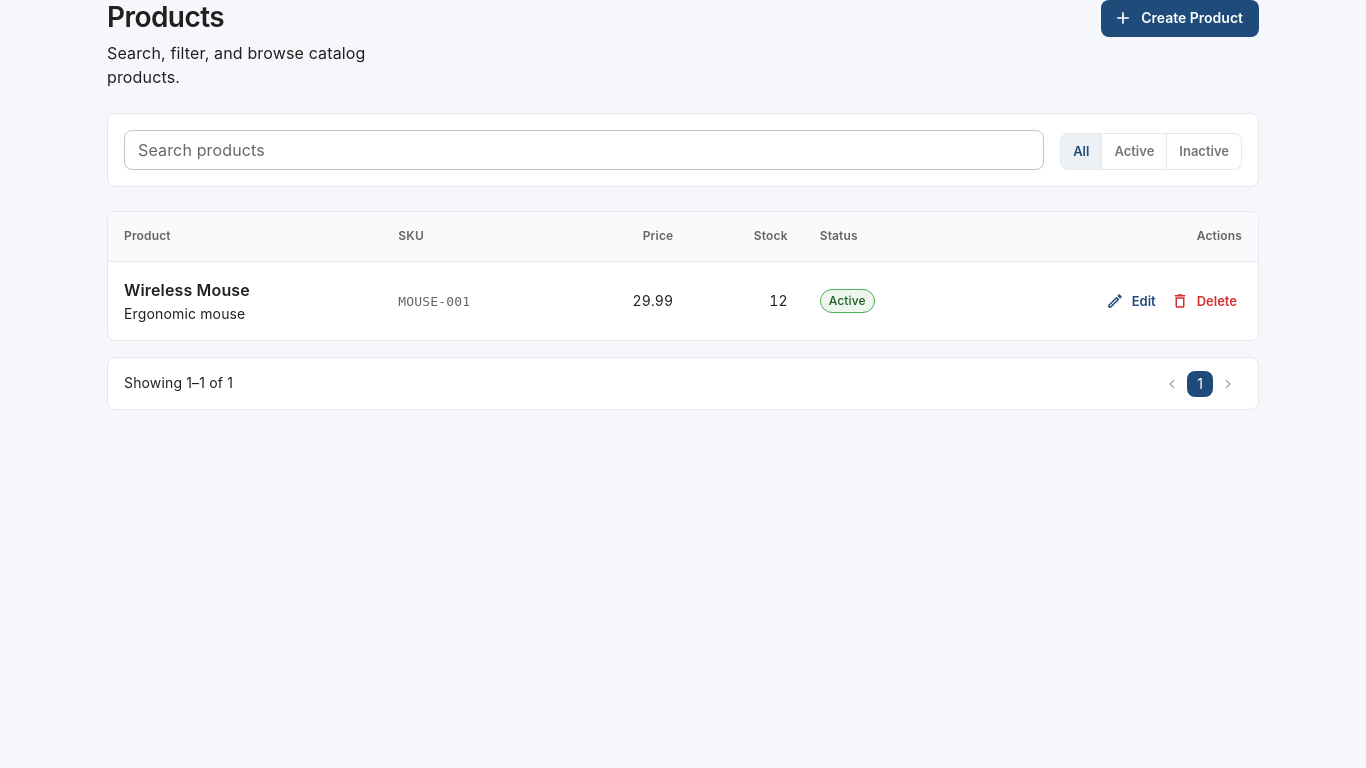
Test case: ProductsPage › shows success feedback and refreshes the Product list after Edit
Check: the text "Wireless Mouse" is shown, box [124,280,250,300]
Click the button with aria-label "Edit Wireless Mouse": (1132, 301) [1100,286,1164,316]
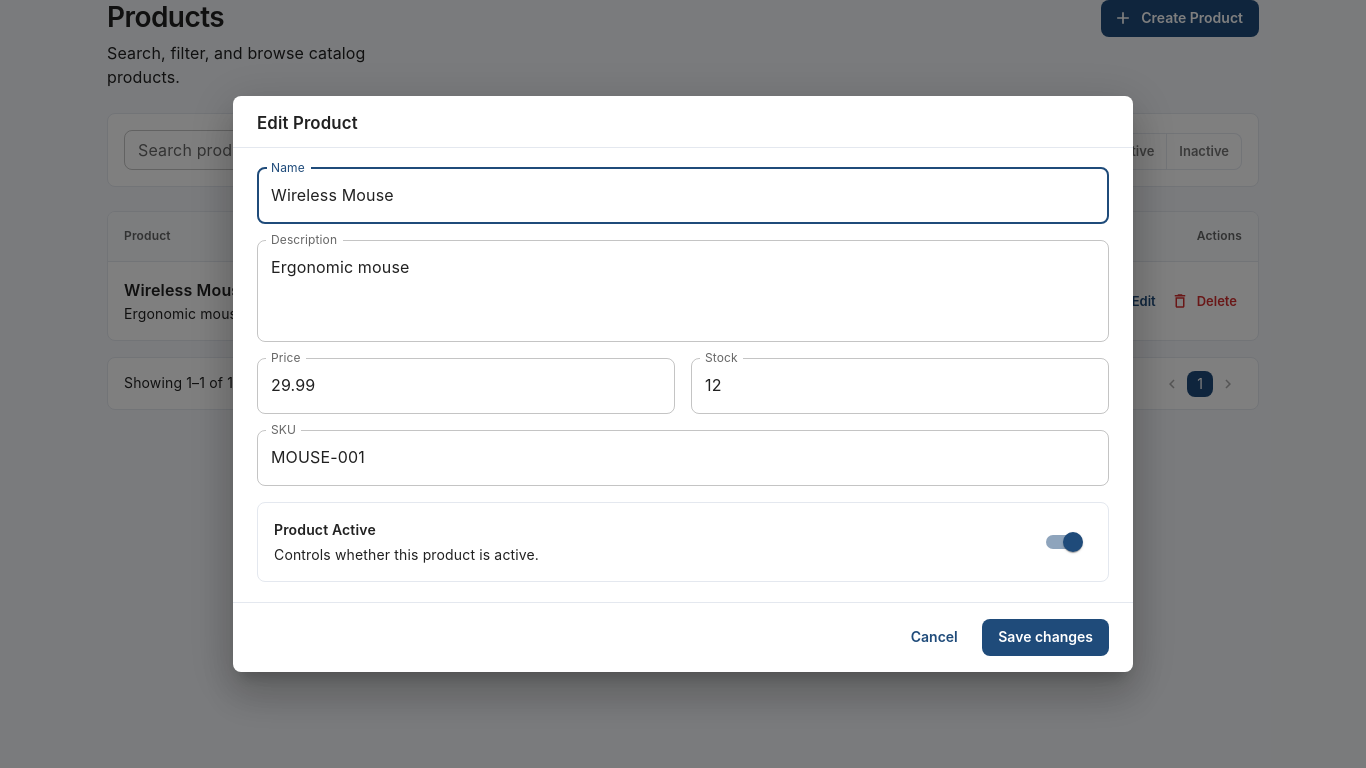
Replace the text in the field labelled "Name" with "Pro Wireless Mouse": (683, 196) [257,168,1109,224]
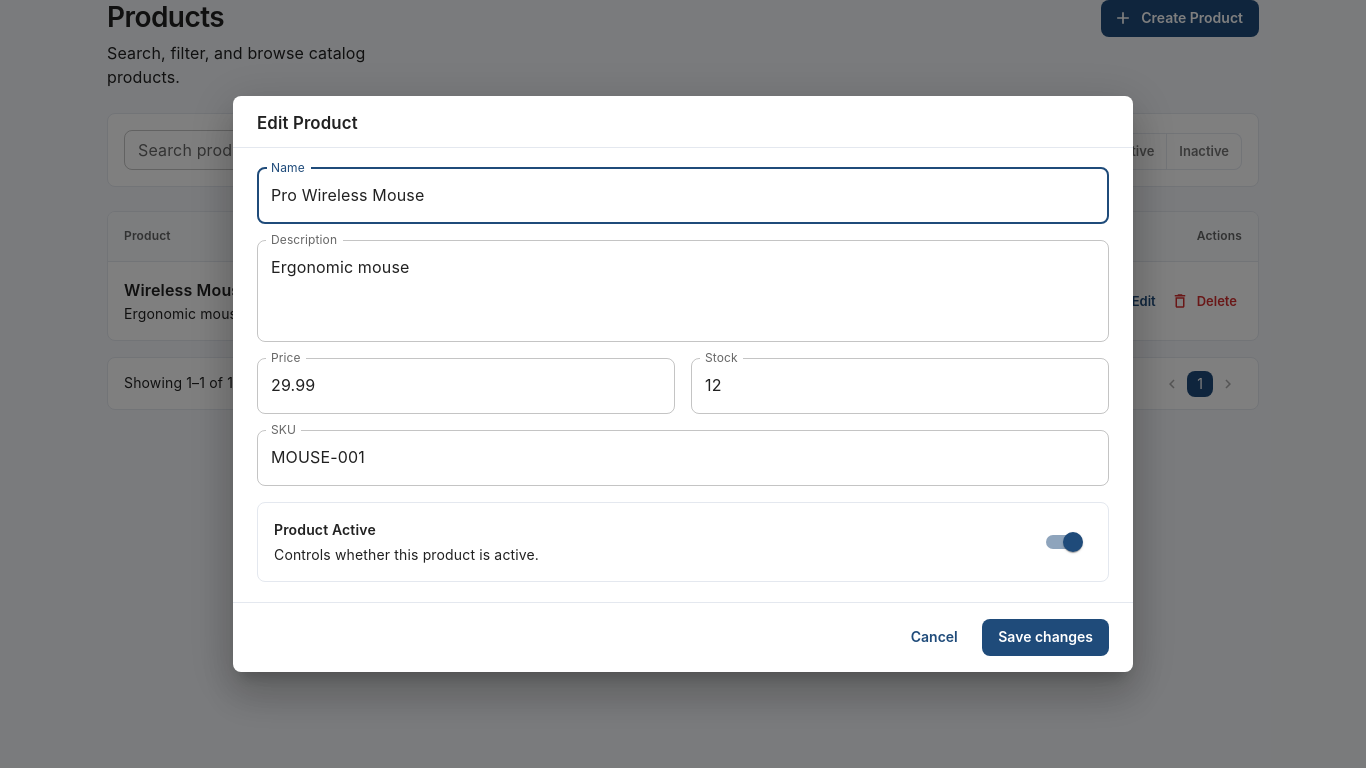
Click the button "Save changes": (1046, 637) [982,619,1109,656]
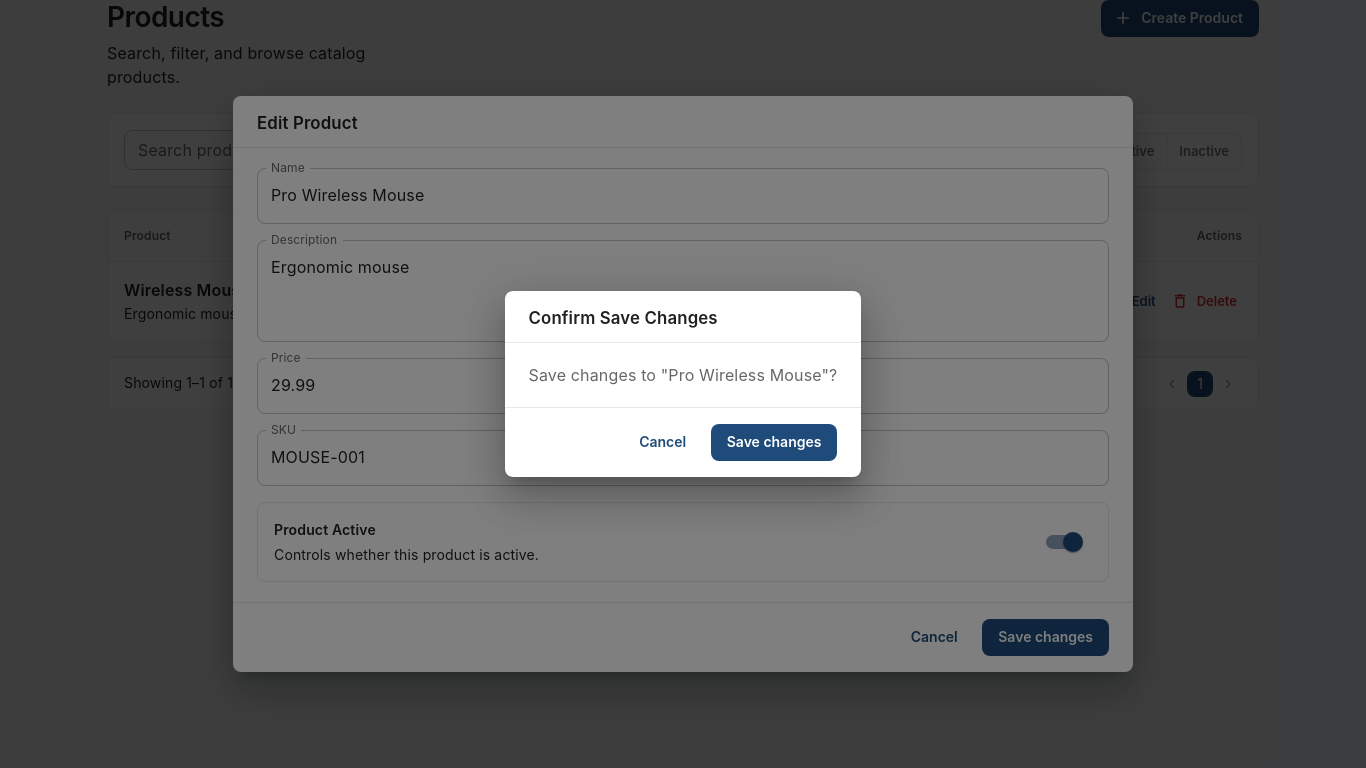
Click the button "Save changes": (774, 442) [711,424,837,461]
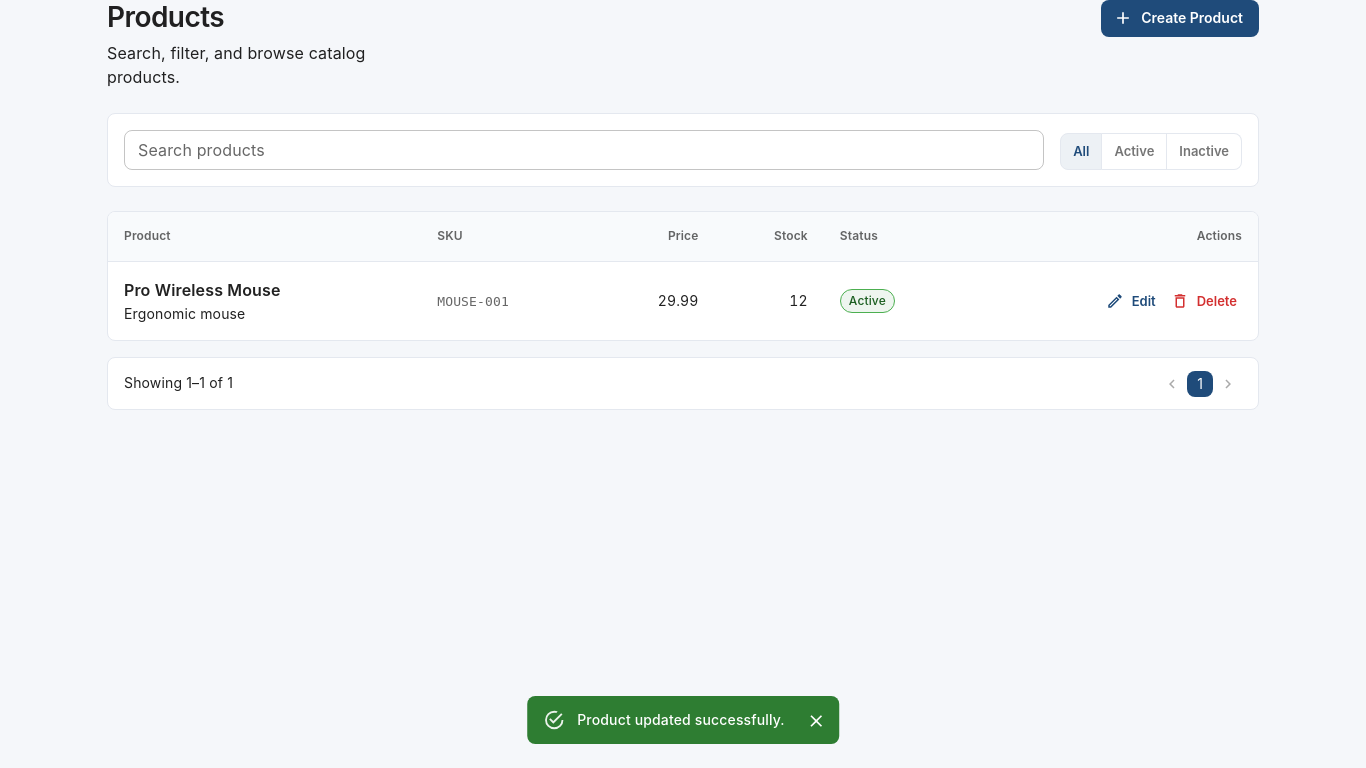
Check: the text "Product updated successfully." is shown, box [577,711,785,728]
Check: the text "Pro Wireless Mouse" is shown, box [124,280,281,300]
